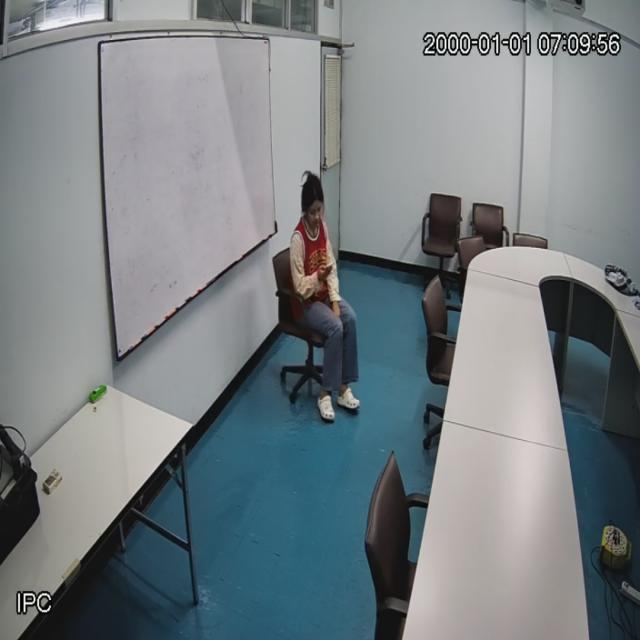normal: (289, 162, 363, 425)
